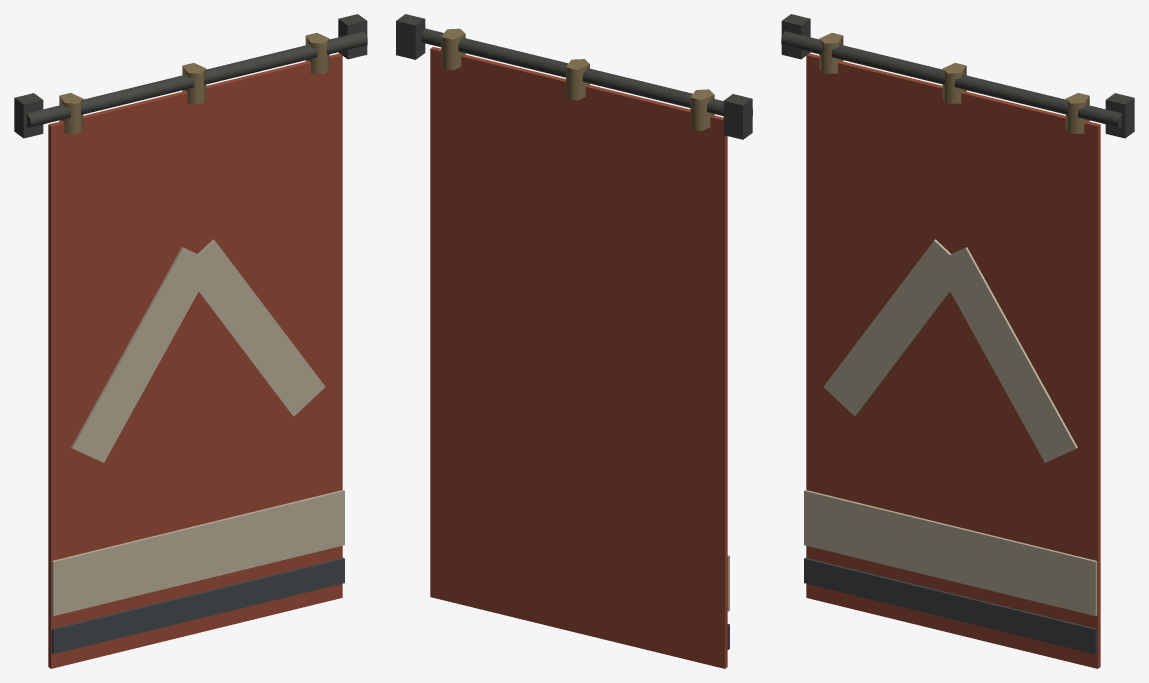
The model's file is goods_cloth_wall.glb.
3 views of the same model, side by side, from view 1: azimuth 30°, elevation 25°; view 2: azimuth 150°, elevation 25°; view 3: azimuth 330°, elevation 25° (orthographic).
Visible parts, largest first — view 1: goods_cloth_wall; view 2: goods_cloth_wall; view 3: goods_cloth_wall.
Boxes of the visible parts, <box> form: goods_cloth_wall: <box>14,14,367,668</box>; goods_cloth_wall: <box>396,14,752,668</box>; goods_cloth_wall: <box>781,14,1134,668</box>.
Size of the model in its own units: 1.06 by 1.68 by 0.08.
